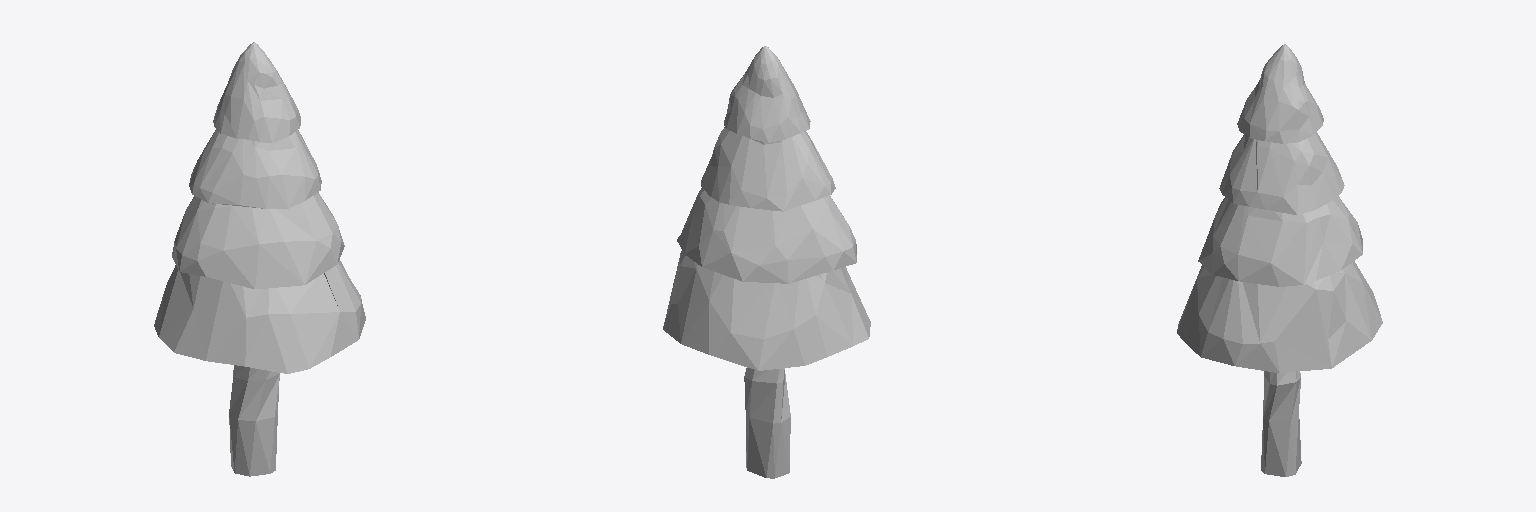
Rendered from Pine5.obj.
The picture shows the model from 3 angles: view 1: azimuth 30°, elevation 25°; view 2: azimuth 150°, elevation 25°; view 3: azimuth 270°, elevation 25°; orthographic projection.
Parts seen in each view (by area): view 1: Cube; view 2: Cube; view 3: Cube.
Part boxes in pixels (x1,y1,x2,y2): Cube: (154,42,365,476); Cube: (663,46,870,478); Cube: (1177,44,1382,476).
Size of the model in its own units: 7.28 by 16.1 by 7.09.